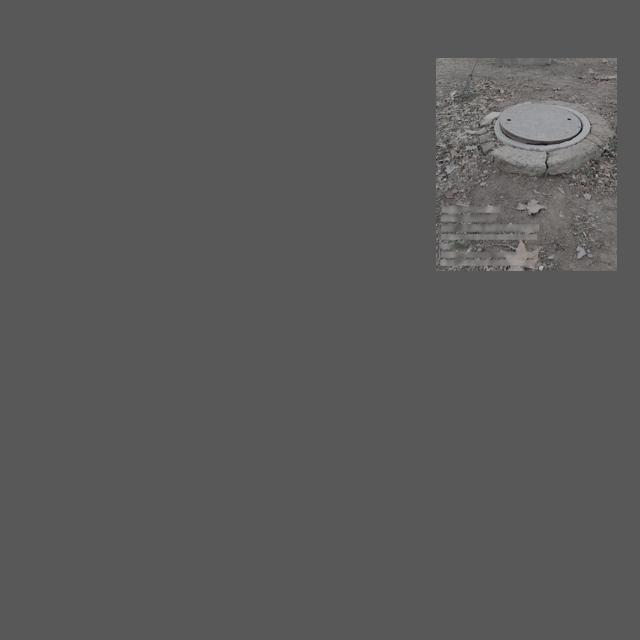uncovered: (494, 103, 590, 150)
